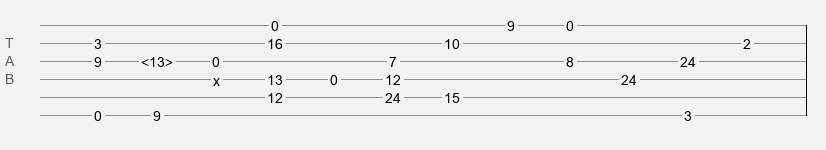0: (94, 108, 102, 118), (212, 54, 220, 64), (271, 18, 279, 28), (330, 72, 338, 82), (566, 18, 574, 28)
10: (444, 36, 460, 46)
12: (267, 90, 283, 100), (385, 72, 401, 82)
13: (267, 72, 283, 82)
15: (444, 90, 460, 100)
16: (267, 36, 283, 46)
2: (743, 36, 751, 46)
24: (385, 90, 401, 100), (621, 72, 637, 82), (680, 54, 696, 64)
3: (94, 36, 102, 46), (684, 108, 692, 118)
7: (389, 54, 397, 64)
8: (566, 54, 574, 64)
9: (94, 54, 102, 64), (153, 108, 161, 118), (507, 18, 515, 28)
harmonic: (141, 54, 173, 64)
x: (213, 73, 220, 81)
